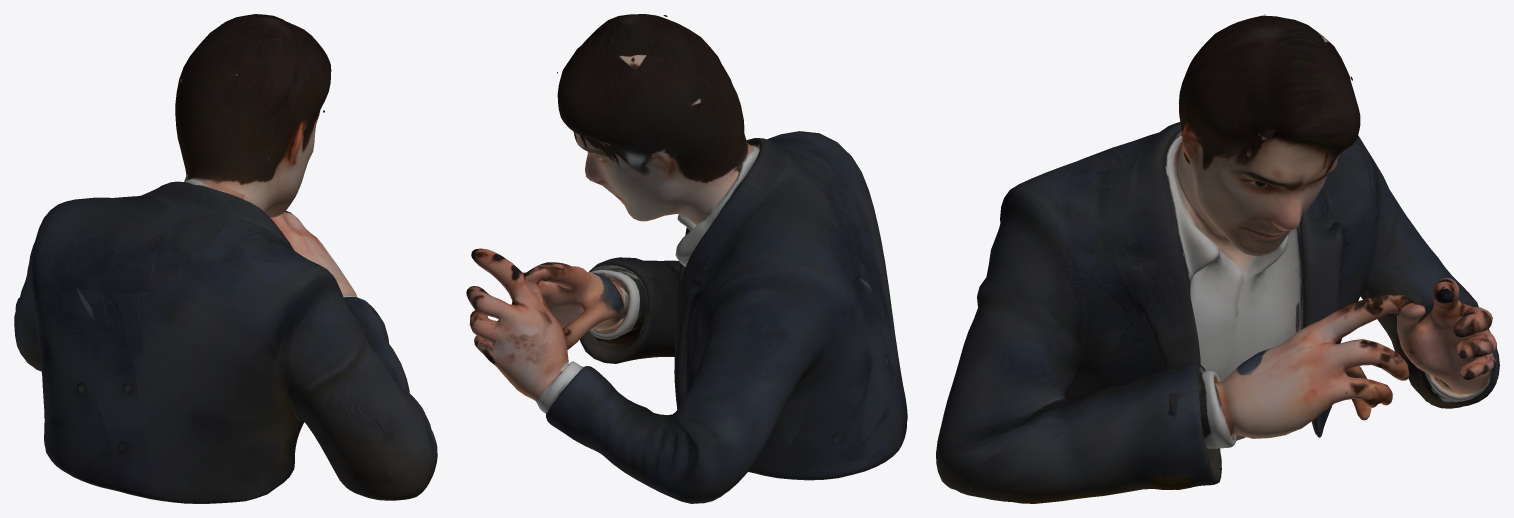
Rendered from suspect_2.glb.
3 views of the same model, side by side, from view 1: azimuth 30°, elevation 25°; view 2: azimuth 150°, elevation 25°; view 3: azimuth 270°, elevation 25° (orthographic). The views are drawn at different scales.
Parts seen in each view (by area): view 1: tripo_node_883cf874-e771-4057-bd2b-d8dd2fe88d38; view 2: tripo_node_883cf874-e771-4057-bd2b-d8dd2fe88d38; view 3: tripo_node_883cf874-e771-4057-bd2b-d8dd2fe88d38.
Boxes of the visible parts, x1,y1,x2,y2 form: tripo_node_883cf874-e771-4057-bd2b-d8dd2fe88d38: (14, 14, 437, 503); tripo_node_883cf874-e771-4057-bd2b-d8dd2fe88d38: (466, 14, 907, 503); tripo_node_883cf874-e771-4057-bd2b-d8dd2fe88d38: (936, 14, 1499, 503).
Size of the model in its own units: 0.7515 by 0.8785 by 0.9963.
1 material, 1 textured.
